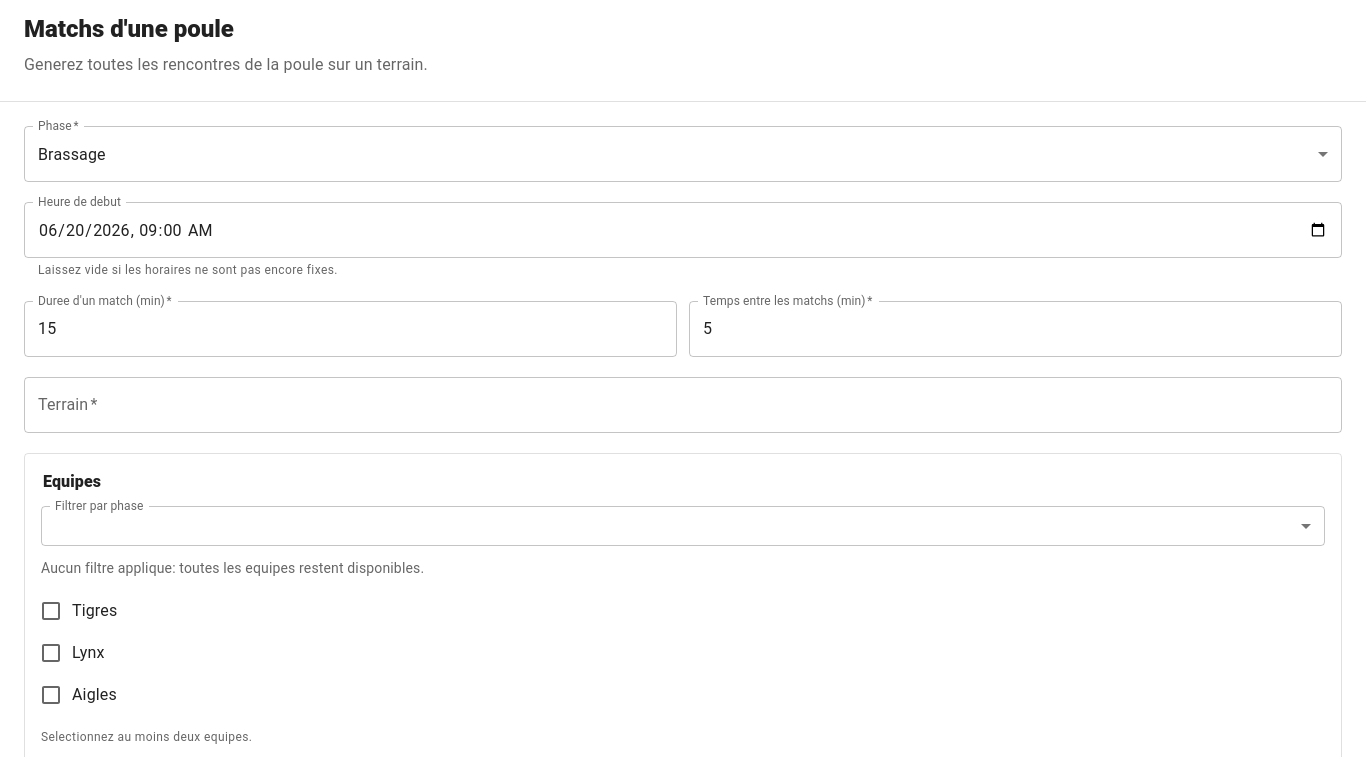
CreatePoolGamesForm › should enable creation after selecting two teams
Click the checkbox labelled "Tigres" at [78, 611], box x1=39 y1=599 x2=117 y2=623
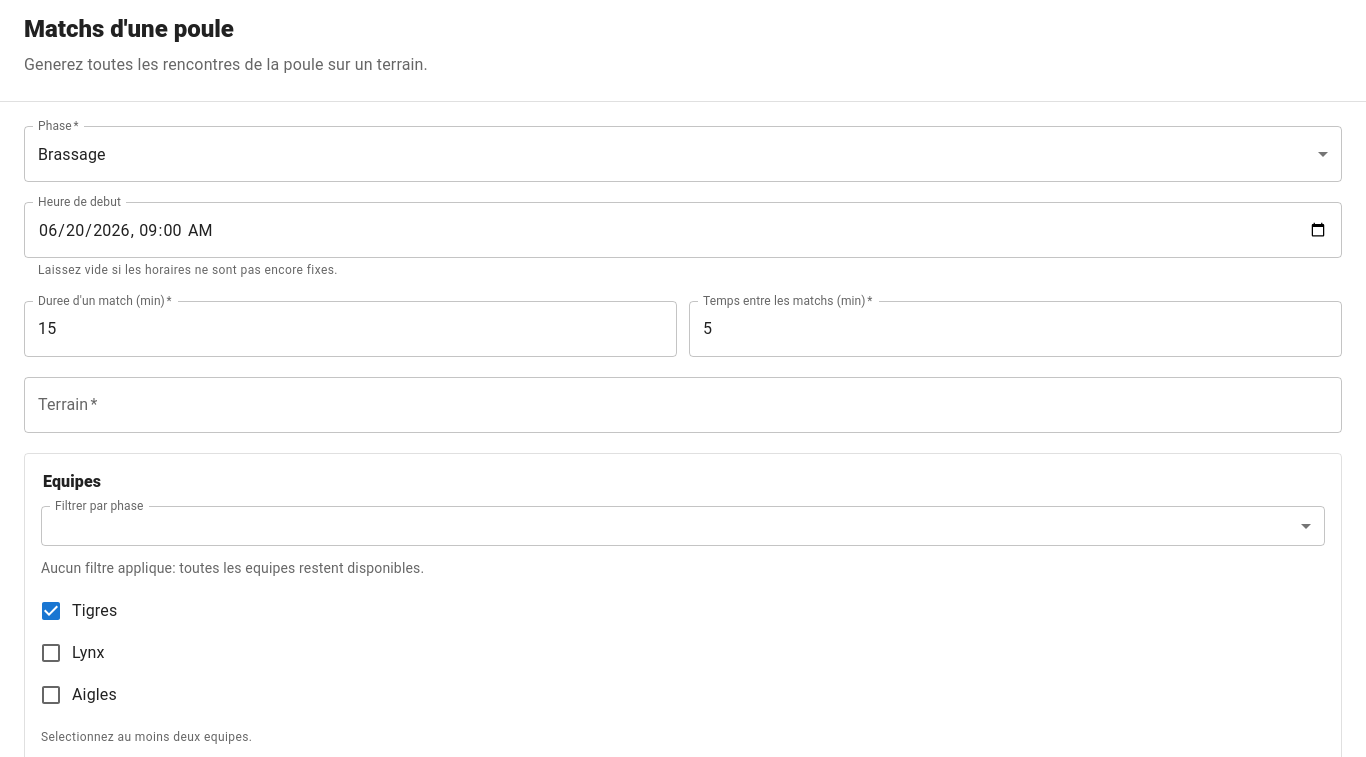
Click the checkbox labelled "Lynx" at [72, 653], box x1=39 y1=641 x2=104 y2=665
(page scrolled)
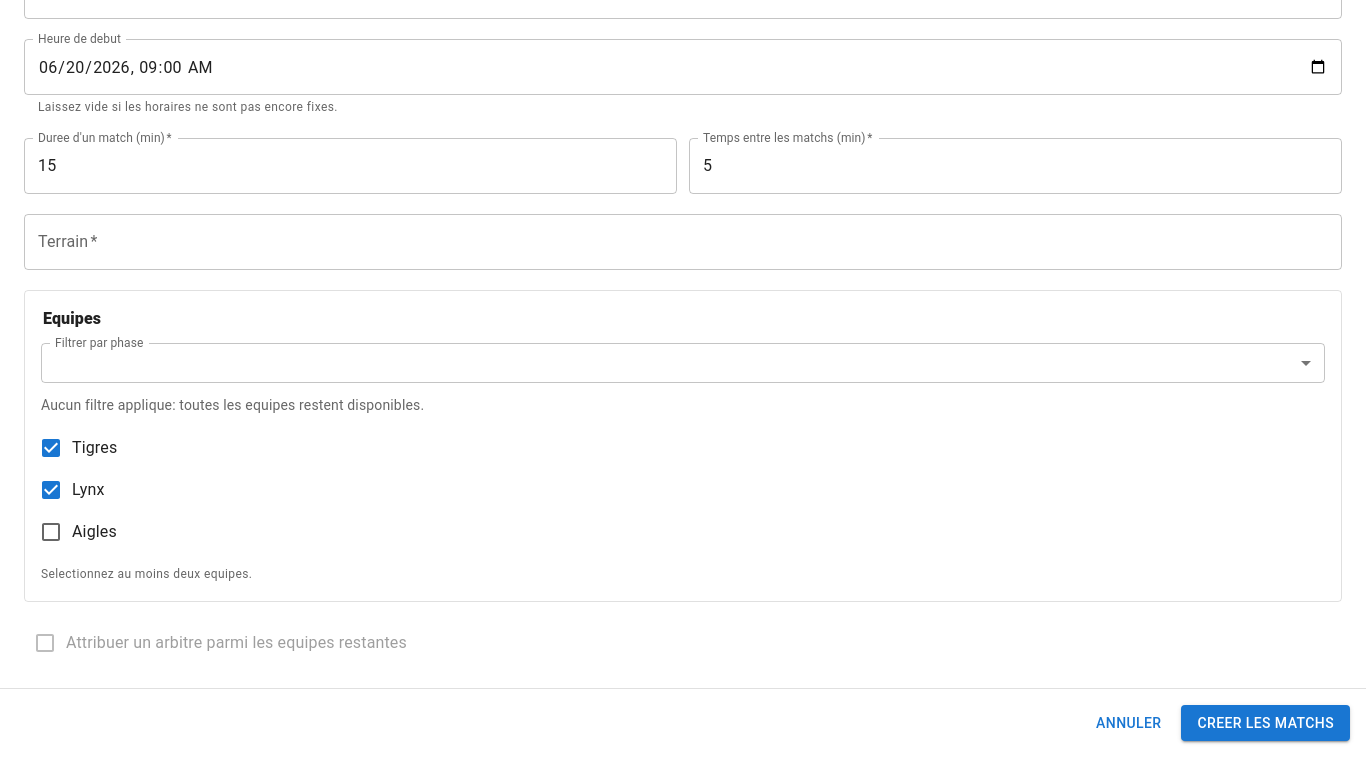
Expected: the checkbox labelled "Attribuer un arbitre parmi les equipes restantes" is disabled, x1=33 y1=631 x2=407 y2=655
Now the button "Creer les matchs" is enabled, box x1=1182 y1=705 x2=1350 y2=741
